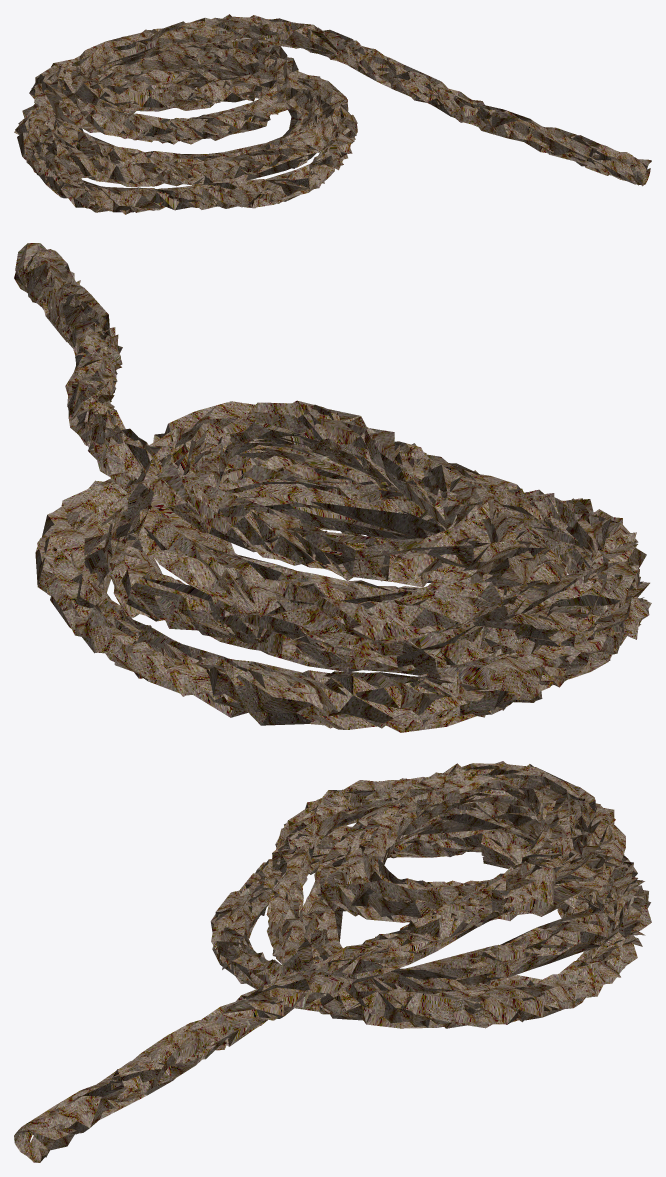
File: rope.fbx
3 views of the same model, one above another, from view 1: azimuth 30°, elevation 25°; view 2: azimuth 150°, elevation 25°; view 3: azimuth 270°, elevation 25° (orthographic). The views are drawn at different scales.
Parts seen in each view (by area): view 1: Circle.002 Remeshed; view 2: Circle.002 Remeshed; view 3: Circle.002 Remeshed.
Part boxes in pixels (bbox=[...]): Circle.002 Remeshed: bbox=[14, 14, 651, 214]; Circle.002 Remeshed: bbox=[14, 243, 651, 732]; Circle.002 Remeshed: bbox=[14, 761, 651, 1162].
Bounding box in the file's own units: 3.74 × 0.7866 × 3.13.
